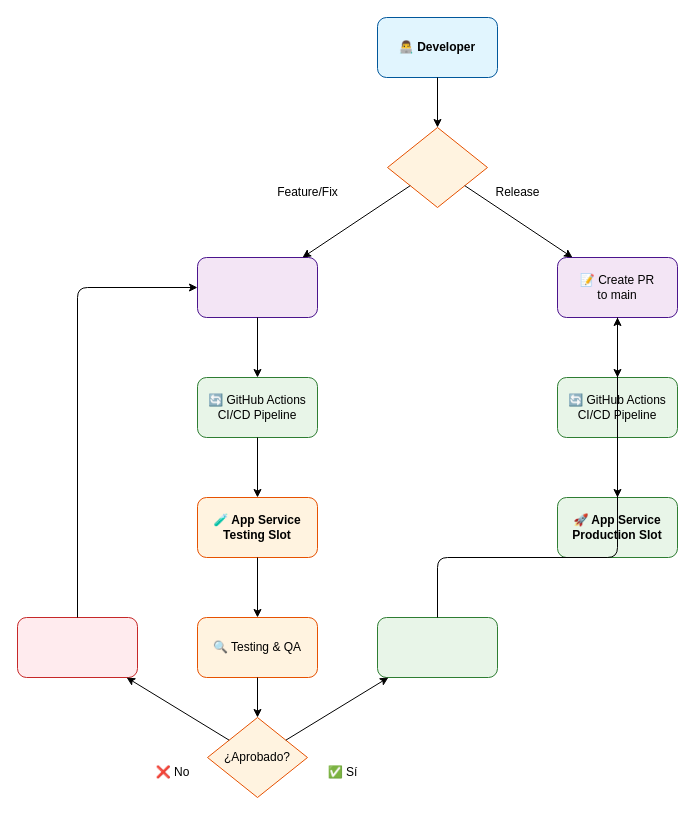
This 695x815 diagram has some shape labels left out. The box of each missing label's shape, as (x1, y1, x2, y2) in pixels:
¿Tipo de cambio?: (386, 126, 488, 208)
🎉 Merge to main: (376, 616, 498, 678)
🐛 Fix Issues: (16, 616, 138, 678)
📝 Create PR to pre-deploy: (196, 256, 318, 318)
